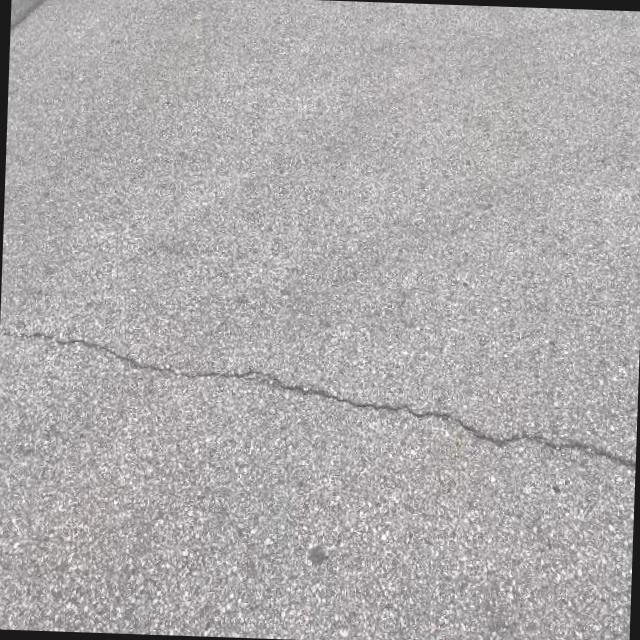Retak-Melintang: (19, 328, 635, 472)
